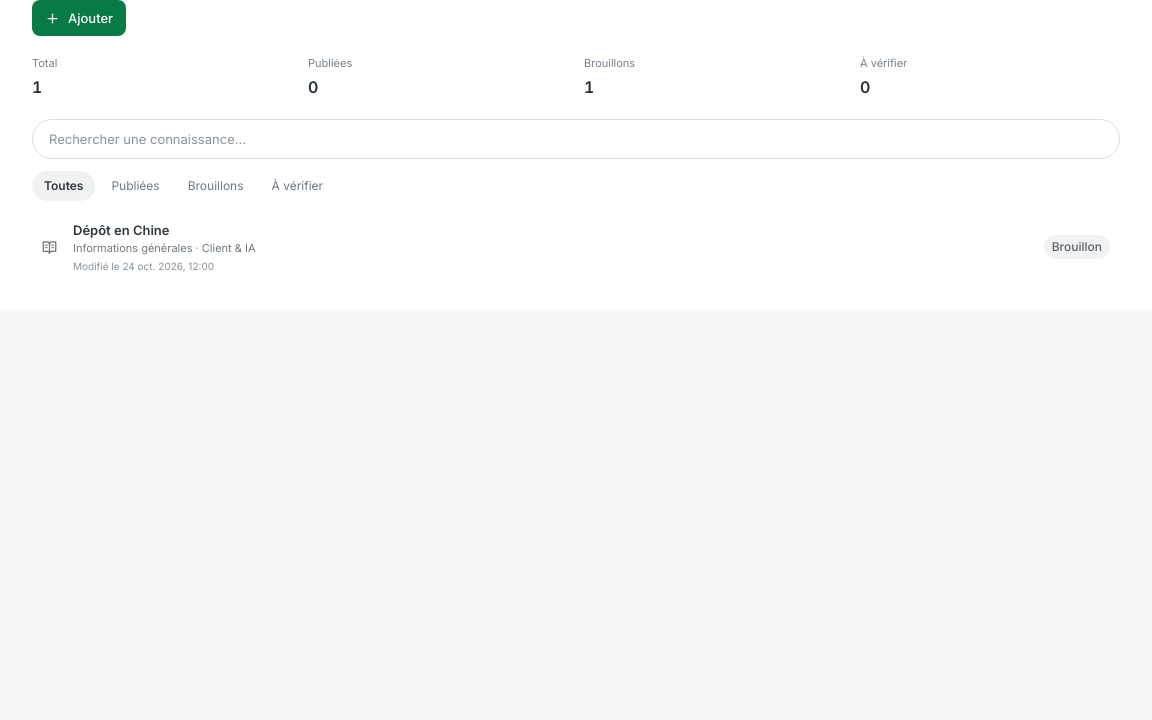
keeps the confirmation open when the server refuses the version
Click the button "Dépôt en Chine": (121, 230) [32,208,1120,286]
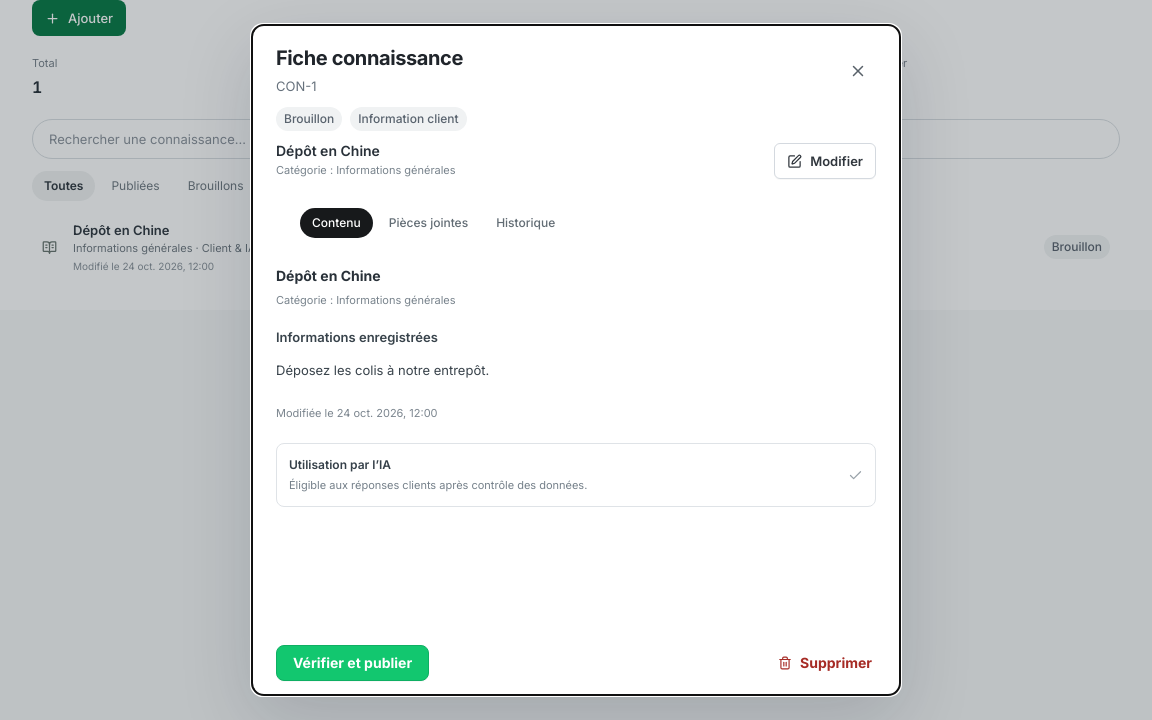
Now the dialog "Fiche connaissance" is shown
Click the button "Vérifier et publier": (353, 663) [276,645,429,681]
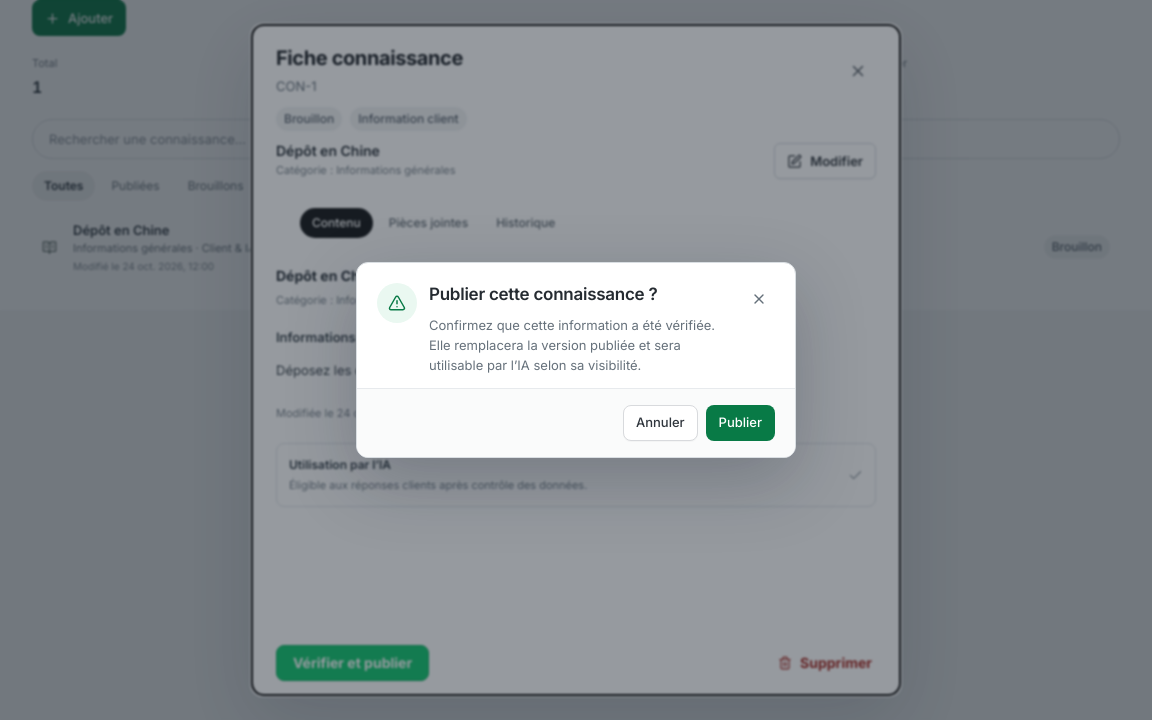
Click the button "Publier": (740, 423) [706,405,775,441]
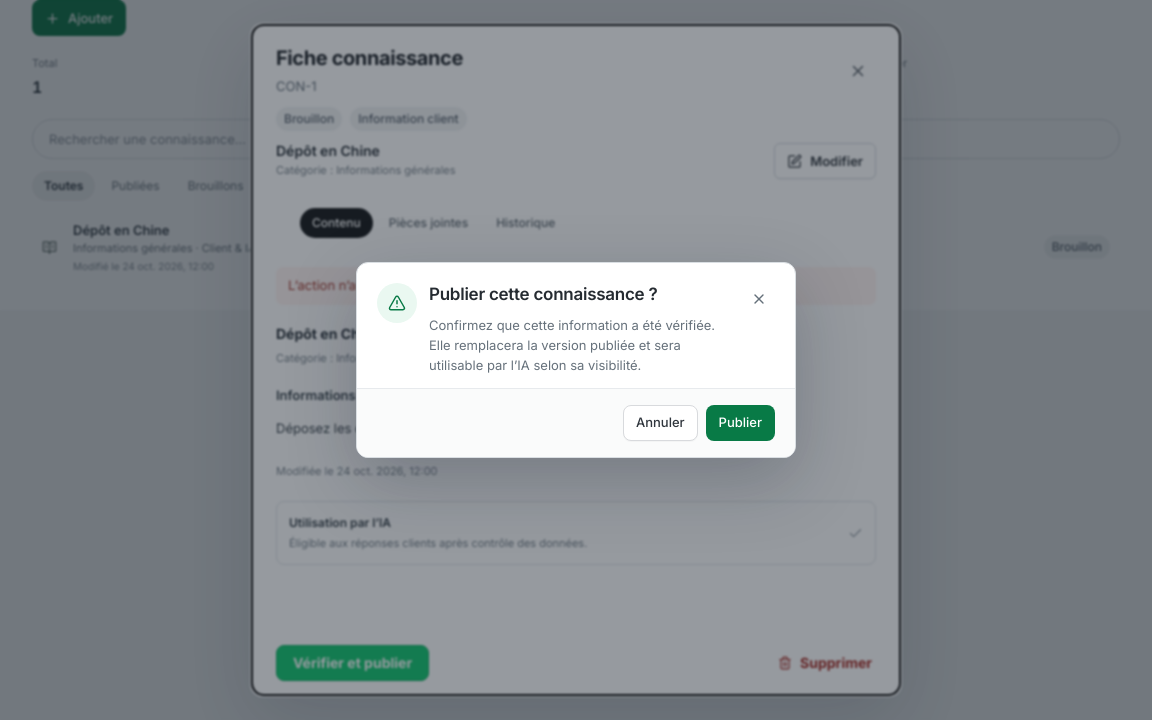
Now the button "Publier" is shown, box [706,405,775,441]
Now the text "Rechargez la fiche puis réessayez" is shown, box [288,278,711,294]
